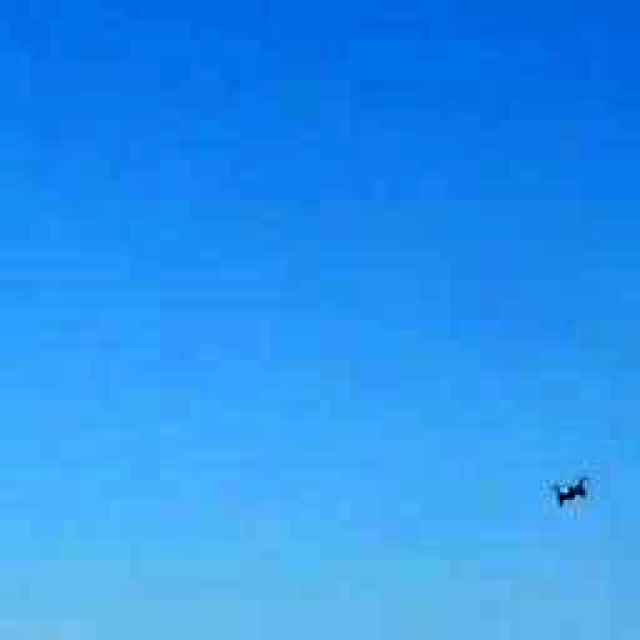bird: (525, 458, 610, 512)
